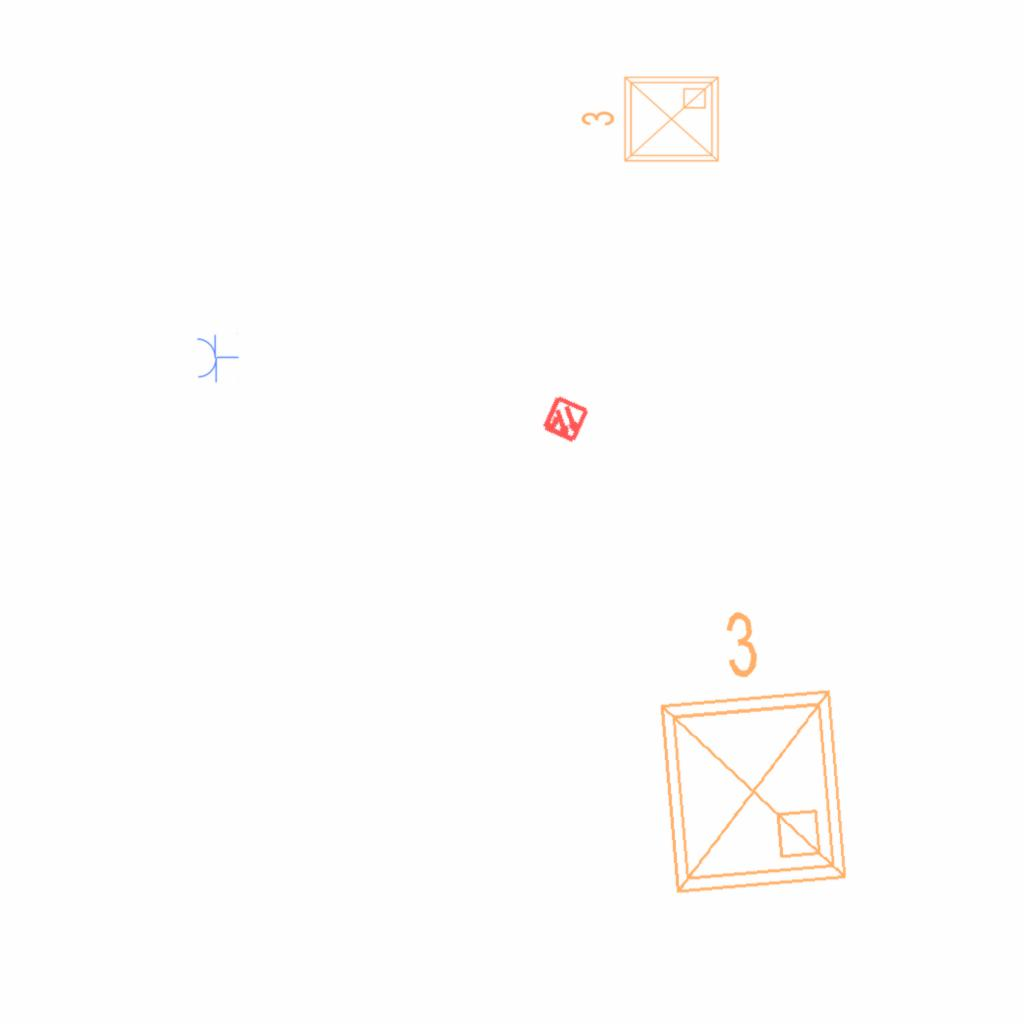Einbaudownlights_LED_Konferenzraeume: (629, 592, 863, 910), (576, 69, 726, 173)
OT_Multisensormelder_(Kombination_RMO_WMD): (528, 383, 602, 457)
Schukosteckdose_einfach: (194, 331, 240, 384)
